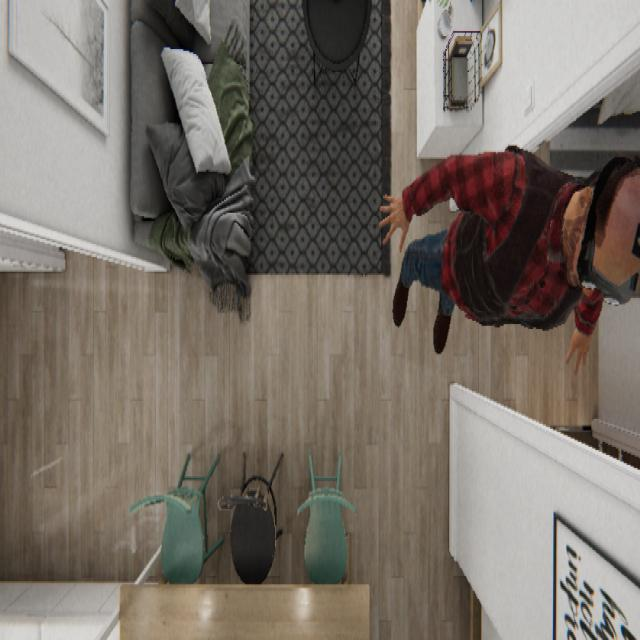Human: (378, 142, 639, 374)
